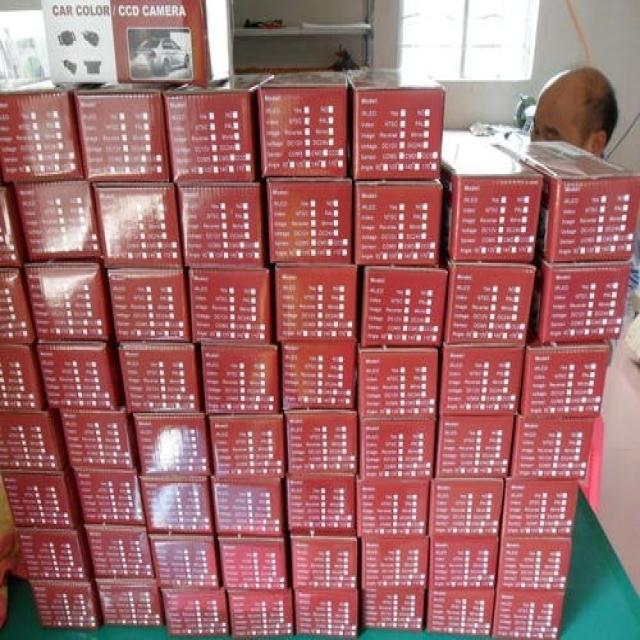box: (497, 140, 640, 265), (41, 0, 234, 84), (439, 130, 544, 263), (164, 73, 274, 183), (347, 68, 445, 179), (72, 84, 179, 183), (259, 72, 347, 177), (0, 80, 87, 184), (532, 259, 631, 343), (91, 183, 184, 268), (24, 258, 116, 343), (520, 333, 611, 418), (353, 181, 444, 266), (444, 261, 536, 345), (175, 183, 264, 266), (268, 179, 353, 265), (361, 266, 449, 348), (12, 181, 100, 261), (104, 268, 191, 341), (116, 343, 204, 415), (275, 266, 358, 341), (188, 268, 271, 341), (438, 346, 525, 415), (202, 341, 280, 415), (509, 415, 596, 481), (38, 341, 120, 410), (360, 348, 438, 418), (282, 341, 357, 410), (435, 415, 515, 478), (133, 415, 212, 476), (500, 478, 580, 538), (209, 415, 285, 478), (0, 471, 83, 527), (138, 476, 215, 536), (360, 418, 436, 478), (285, 473, 356, 536), (285, 411, 357, 473), (357, 476, 430, 536), (429, 478, 506, 534), (61, 410, 134, 469), (211, 478, 284, 536), (0, 411, 69, 471), (15, 527, 93, 580), (497, 536, 572, 591), (76, 469, 146, 526), (148, 536, 221, 589), (429, 534, 499, 589), (218, 536, 289, 589), (84, 526, 155, 579), (291, 536, 358, 591), (493, 591, 564, 640), (361, 538, 429, 589), (428, 589, 495, 638), (95, 579, 163, 626), (0, 345, 47, 413), (161, 589, 230, 635), (32, 582, 101, 628), (227, 589, 293, 637), (294, 589, 358, 638), (0, 268, 38, 346), (362, 589, 425, 630)
